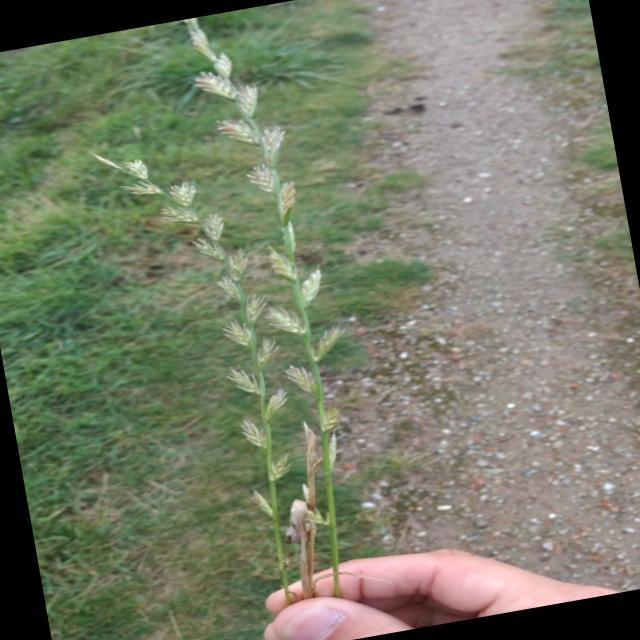Lolium: (88, 118, 312, 540), (182, 8, 348, 482)
